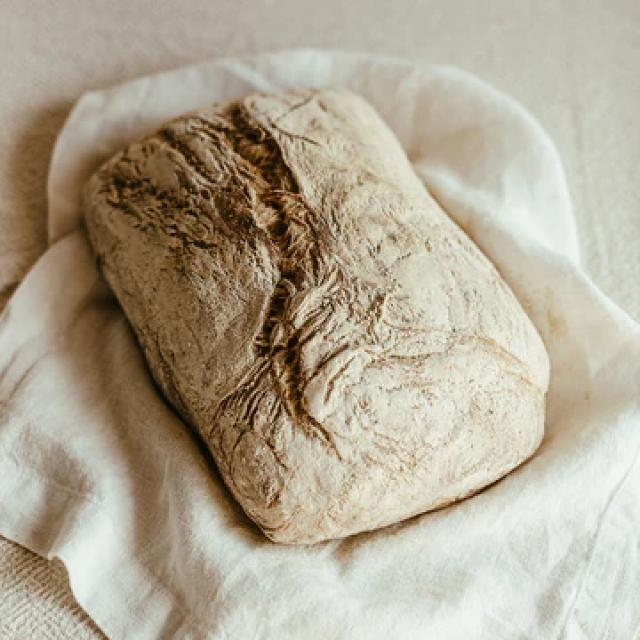Ciabatta: (85, 91, 548, 542)
